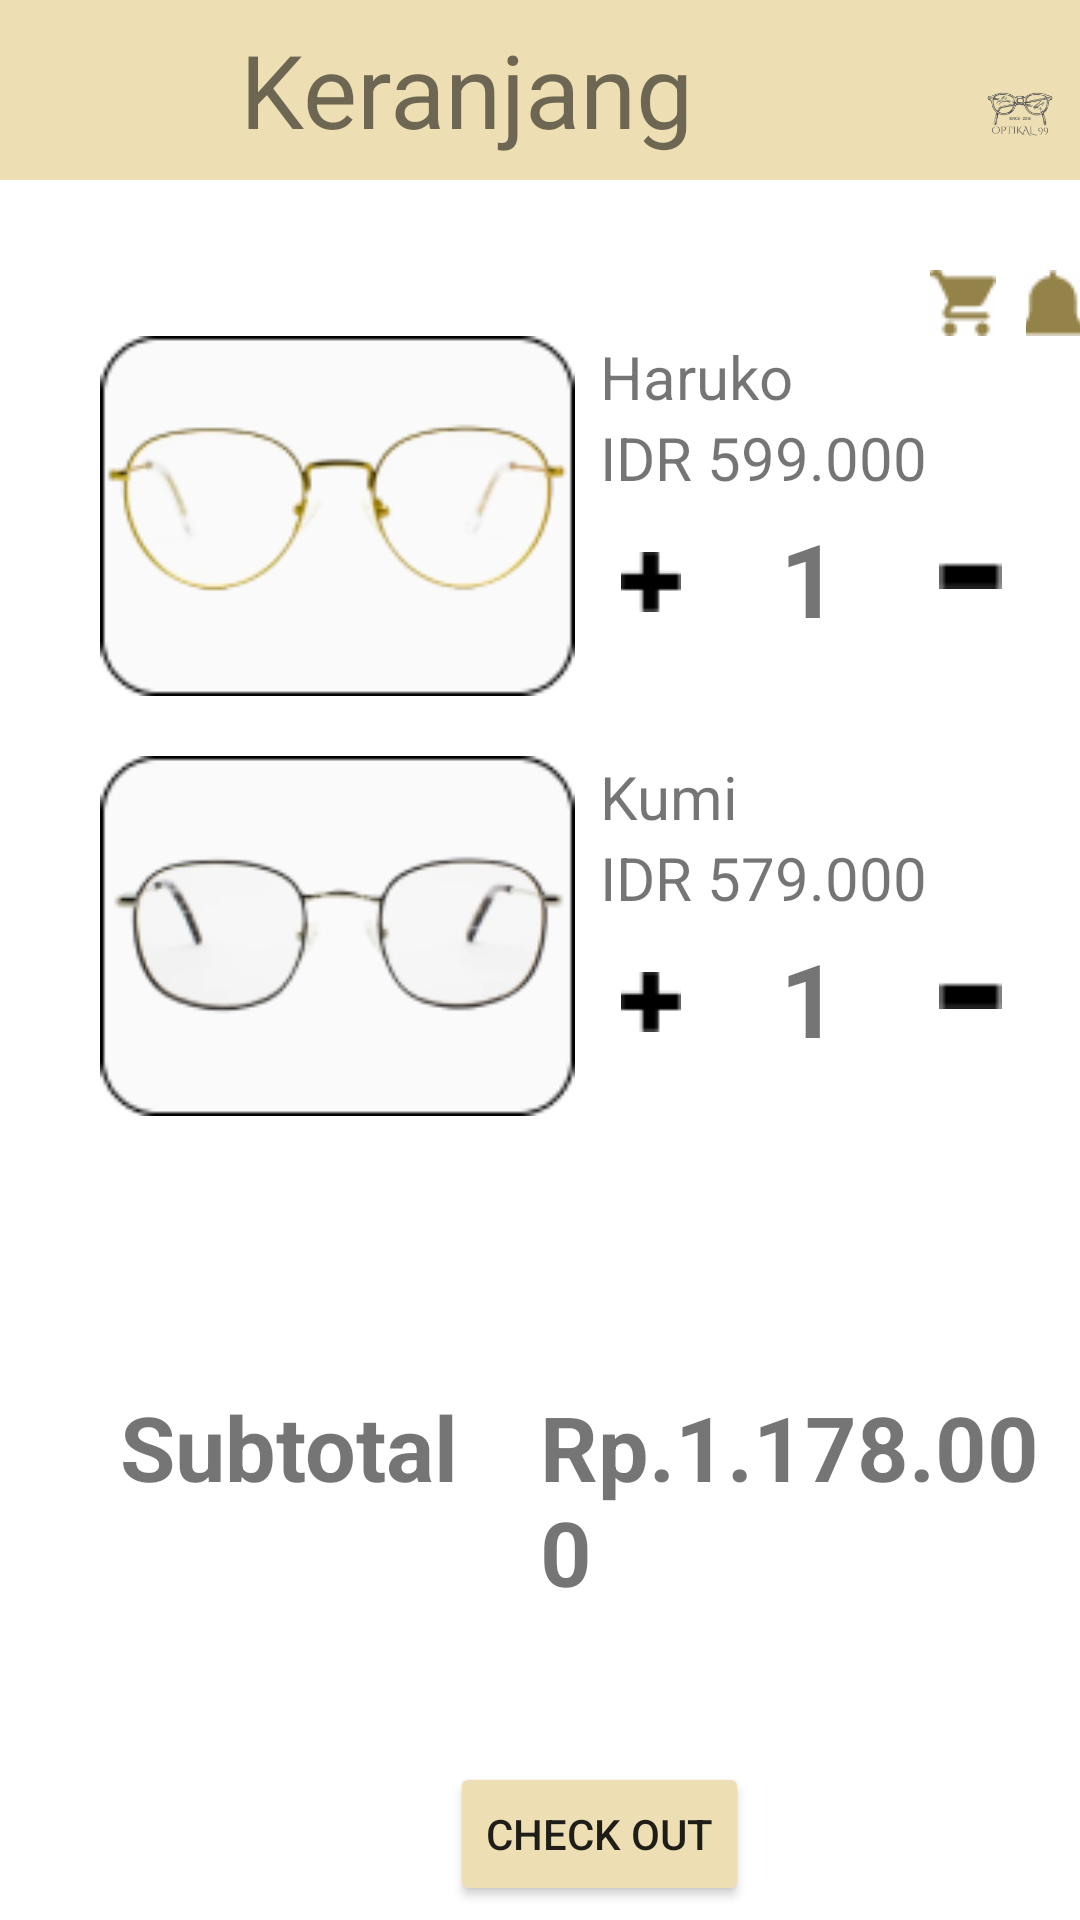

Screen size 1080 × 1920. Icon name, then its center in pixels as (x,y):
notification: (1053,303)
shop: (963,303)
